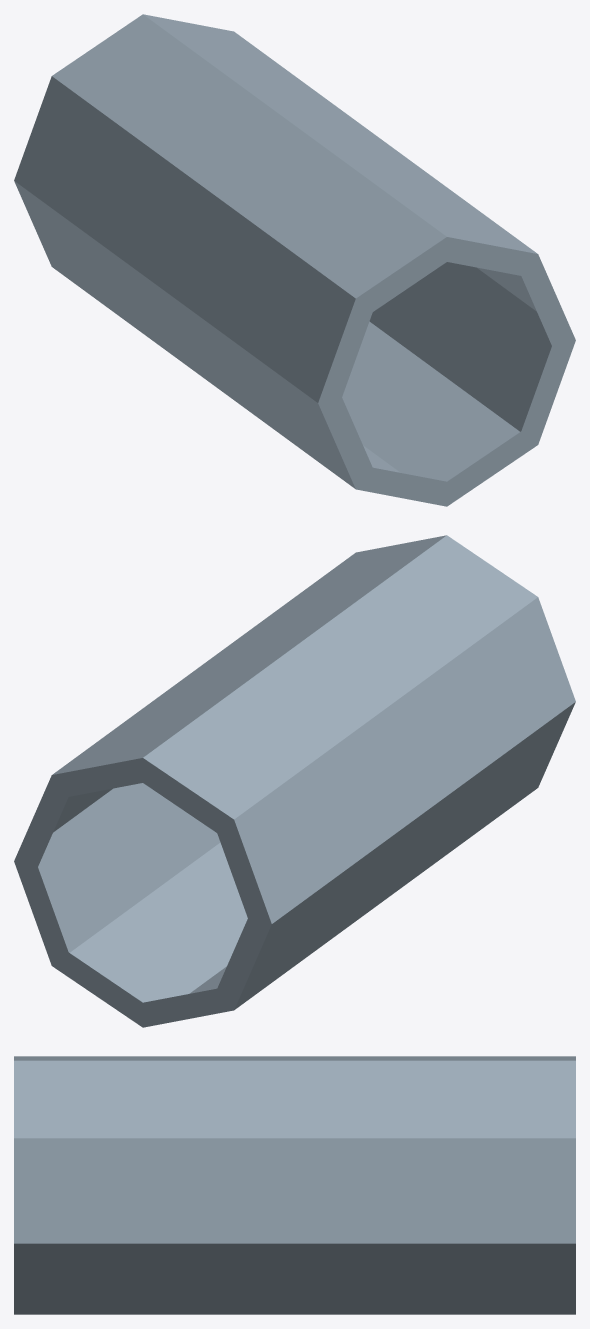
Rendered from pipestraight.glb.
The picture shows the model from 3 angles, top to bottom: view 1: azimuth 30°, elevation 25°; view 2: azimuth 150°, elevation 25°; view 3: azimuth 270°, elevation 25°; orthographic projection. The views are drawn at different scales.
Parts seen in each view (by area): view 1: pipeStraight; view 2: pipeStraight; view 3: pipeStraight.
Boxes of the visible parts, left/top/right/bottom form: pipeStraight: left=14, top=14, right=575, bottom=506; pipeStraight: left=14, top=535, right=575, bottom=1027; pipeStraight: left=14, top=1056, right=575, bottom=1314.
Size of the model in its own units: 4.9 by 4.9 by 10.
